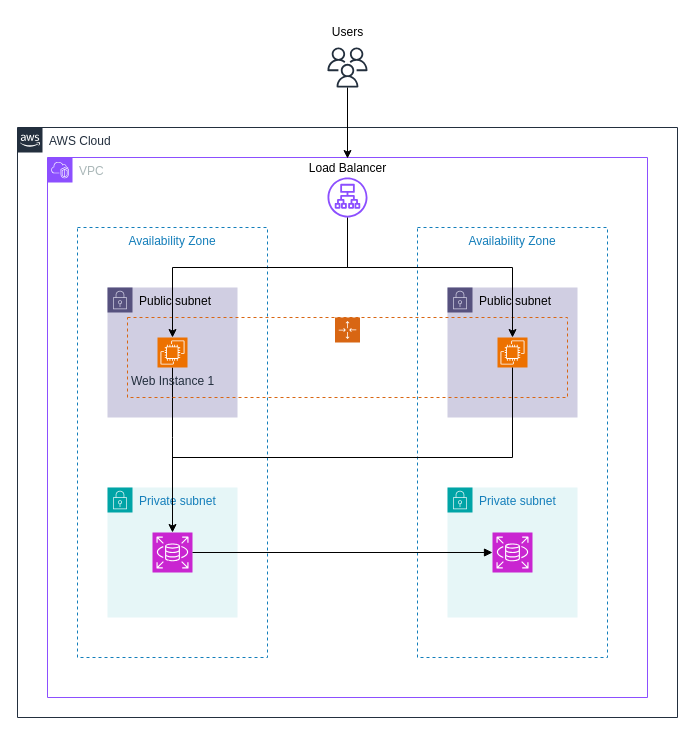
The diagram is 695 pixels wide and 735 high, and some of its shapes have lost their labels. Here are the shapes that lost their labels. From the top down, the box of each, then its label:
(126, 316, 568, 398): Auto Scaling group
(496, 336, 528, 368): Web Instance 2
(152, 532, 192, 572): RDS Instance
(492, 532, 532, 572): Read Replica
